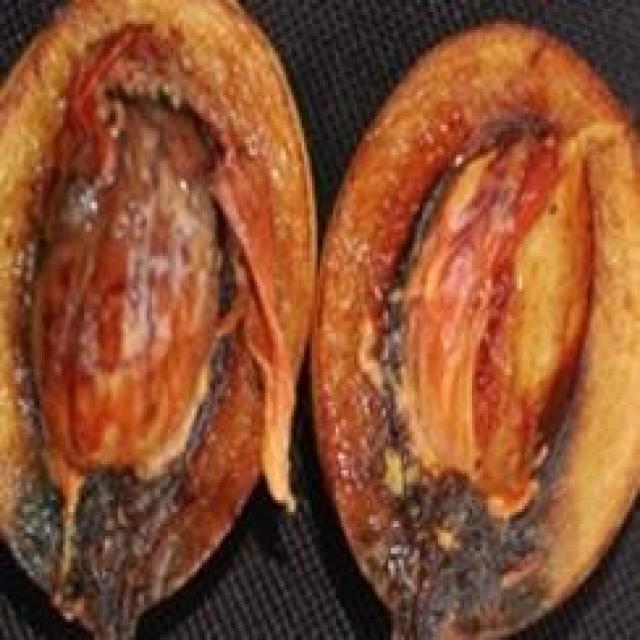damaged: (304, 18, 637, 637), (0, 0, 320, 637)
